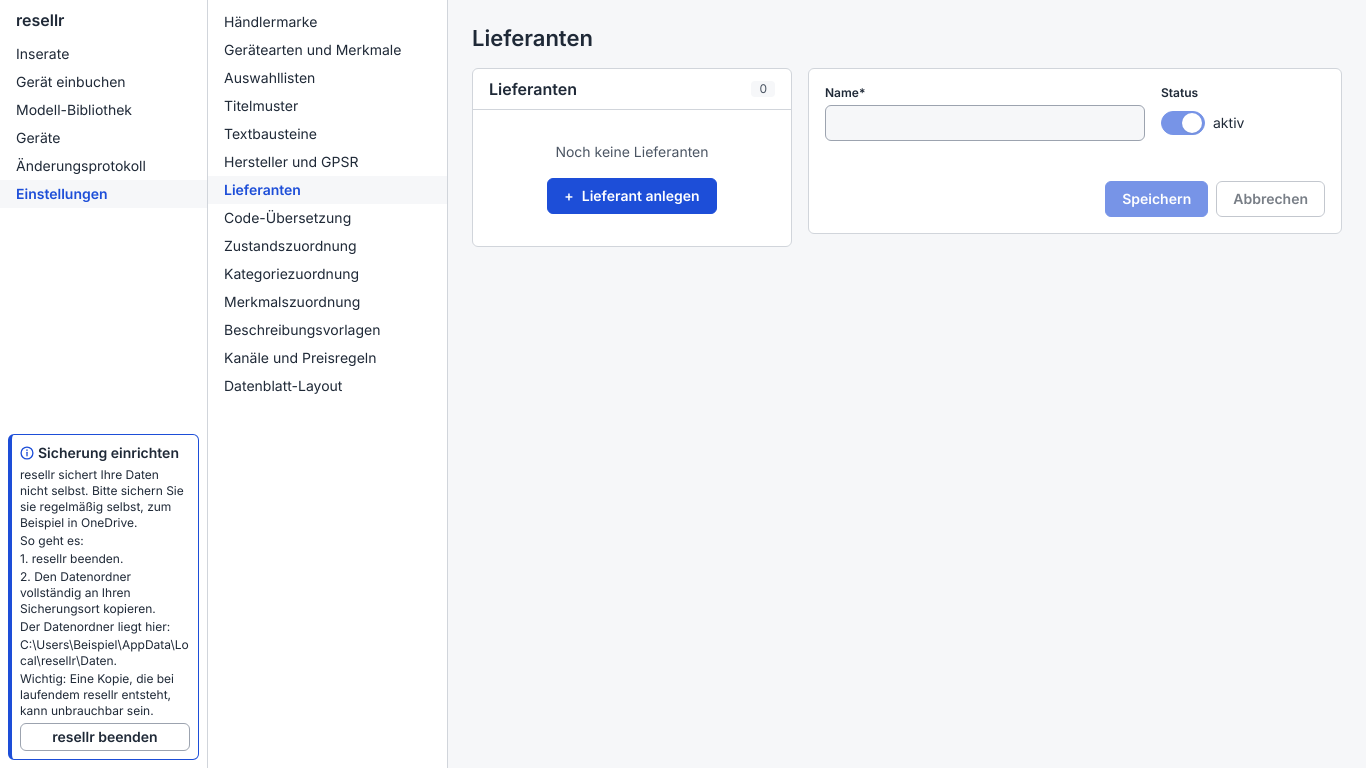
Test: UI-032 suppliers (CU-099) › UI-032.empty DER-36-02 shows "Noch keine Lieferanten" in the list area with the primary button "Lieferant anlegen" below it
Expected: the 1st heading "Lieferanten" is shown, [472,25,593,51]
Click the button "+ Lieferant anlegen": (632, 196) [547,178,717,214]
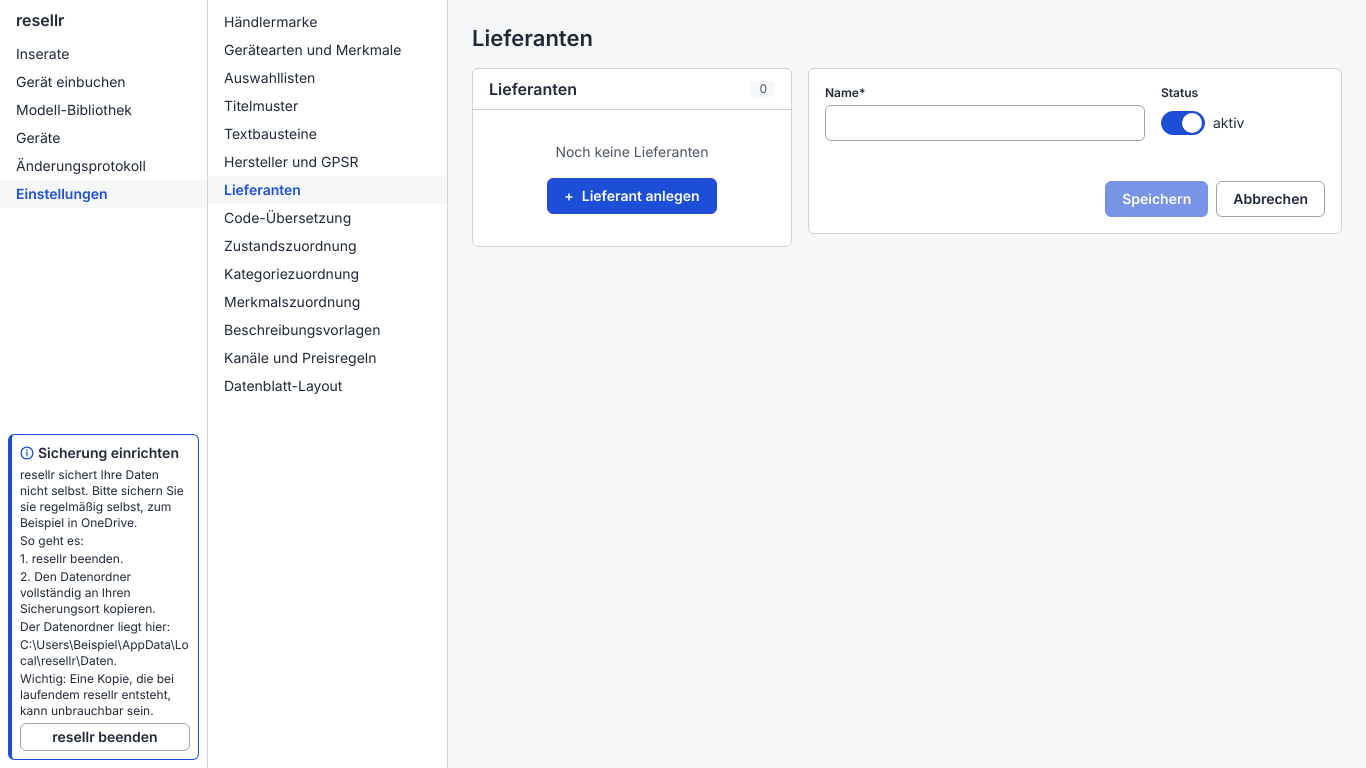
In the field labelled "Name*": (985, 123) [825,105,1145,141], type "L1"
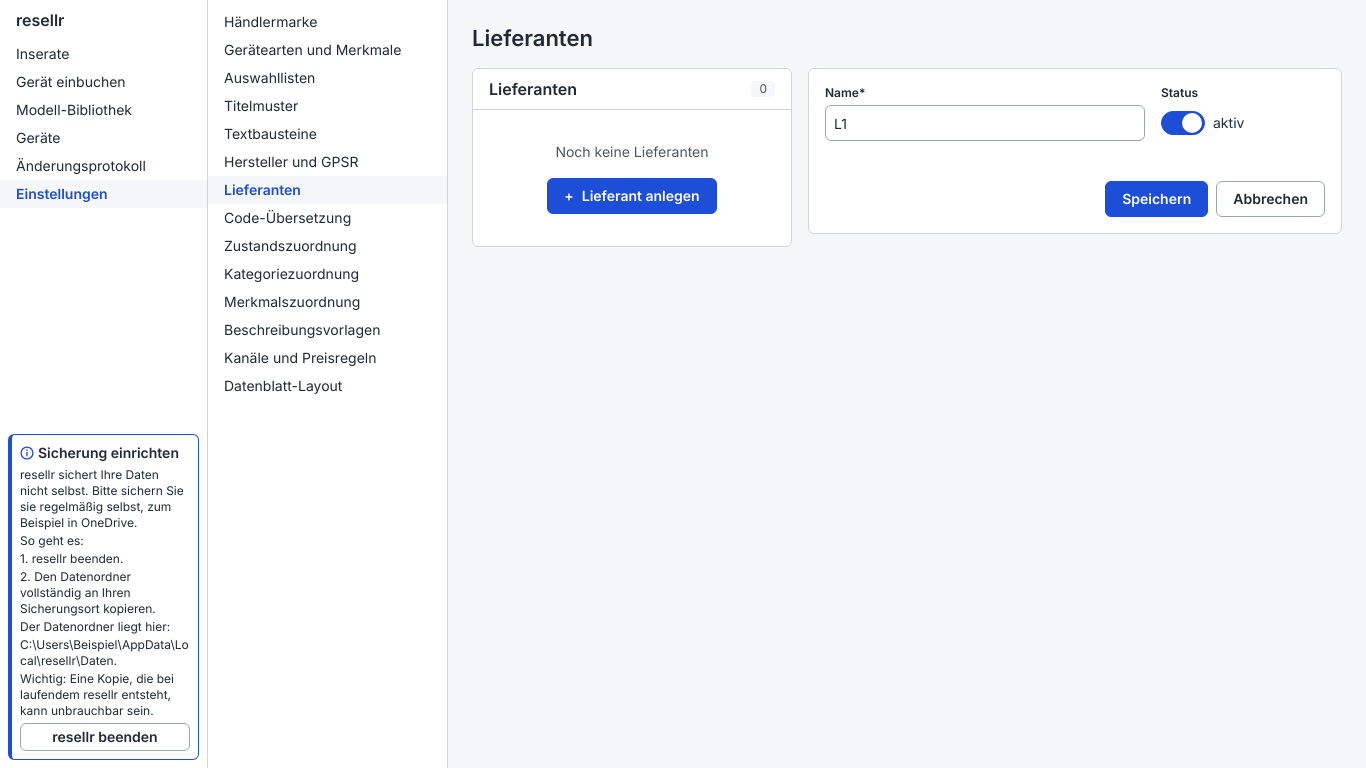
Click the button "Speichern": (1157, 199) [1105,181,1208,217]
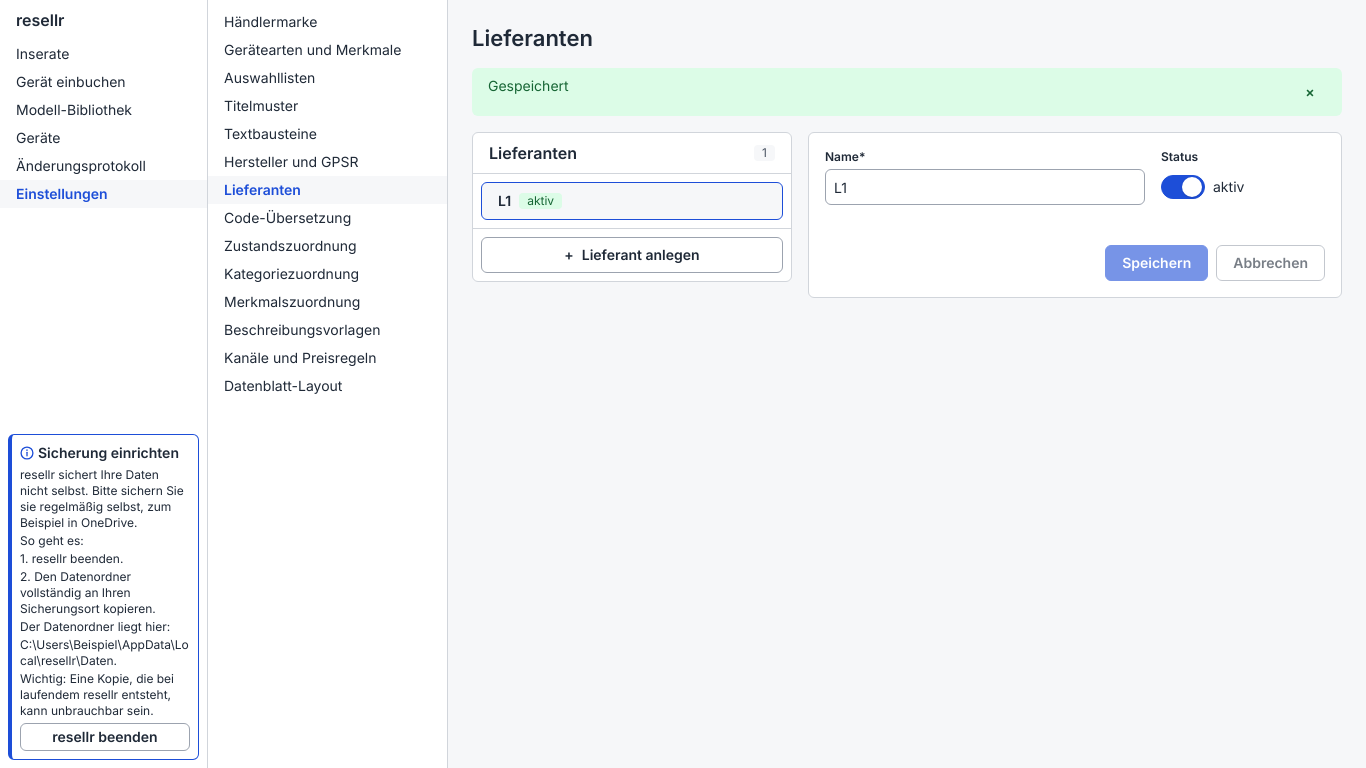
Expected: the text "Gespeichert" is shown, [488,77,569,94]
Expected: the text "Noch keine Lieferanten" is gone
